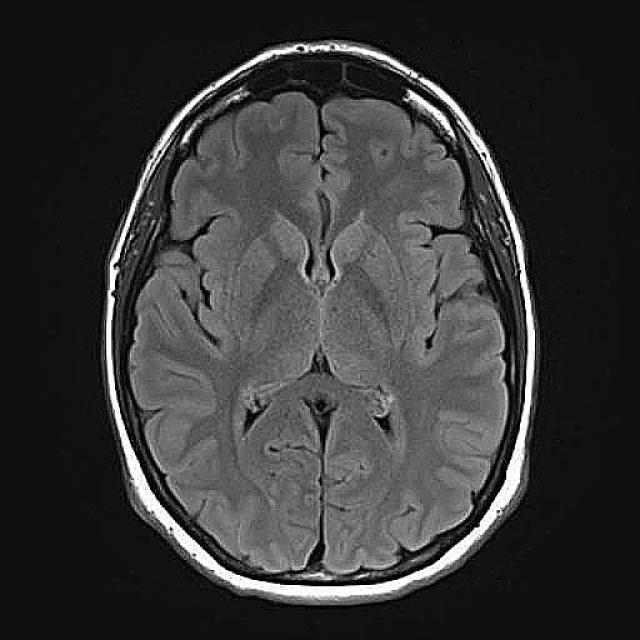No_Tumor: (104, 40, 535, 604)
